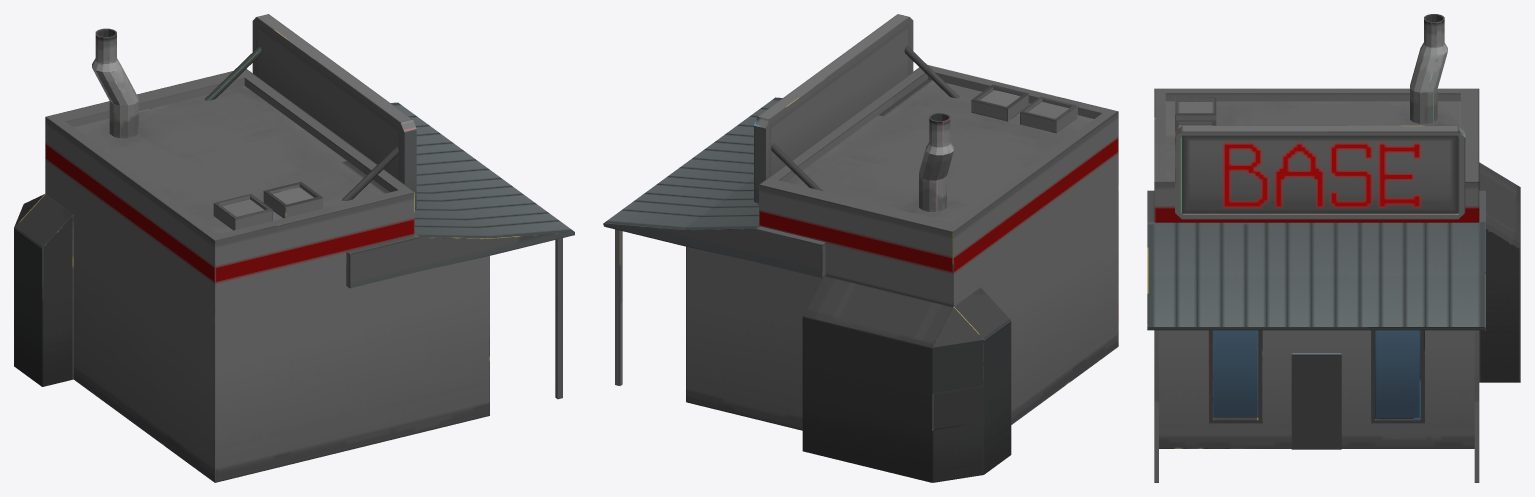
The picture shows the model from 3 angles, left to right: view 1: azimuth 30°, elevation 25°; view 2: azimuth 150°, elevation 25°; view 3: azimuth 270°, elevation 25°; orthographic projection. The views are drawn at different scales.
Visible parts, largest first — view 1: BASE, cuboid_2, Cerobong, cuboid, cuboid_1; view 2: BASE, cuboid_2, Cerobong, cuboid, cuboid_1, cylinder_1; view 3: BASE, cuboid_2, Cerobong, cuboid.
Part boxes in pixels (<box>): BASE: <box>14,69,574,482</box>; cuboid_2: <box>252,14,416,208</box>; Cerobong: <box>92,28,138,138</box>; cuboid: <box>213,194,272,230</box>; cuboid_1: <box>263,182,322,218</box>; BASE: <box>603,65,1118,482</box>; cuboid_2: <box>754,14,913,205</box>; Cerobong: <box>919,113,953,211</box>; cuboid: <box>1020,96,1077,133</box>; cuboid_1: <box>971,84,1028,121</box>; cylinder_1: <box>904,45,959,98</box>; BASE: <box>1147,88,1520,482</box>; cuboid_2: <box>1175,125,1465,219</box>; Cerobong: <box>1410,14,1447,123</box>; cuboid: <box>1175,97,1216,120</box>.
Bounding box in the file's own units: 388 × 319 × 338.
1 material, 1 textured.
